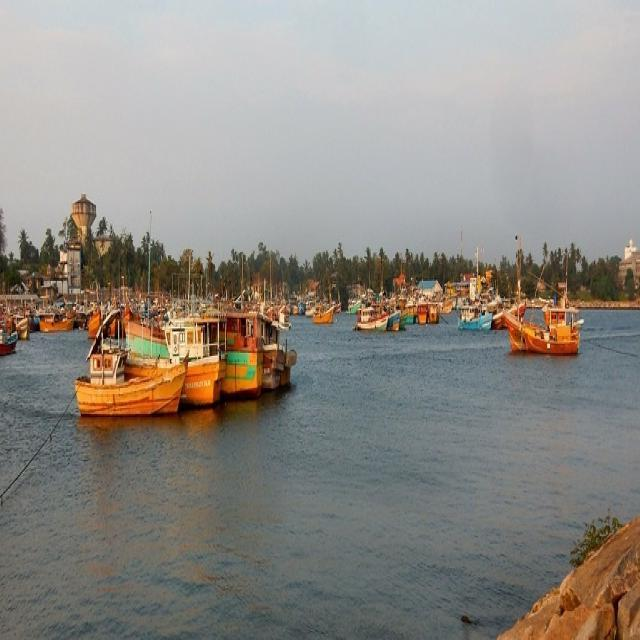boat: (502, 300, 586, 364), (352, 308, 392, 332), (462, 306, 492, 332)
